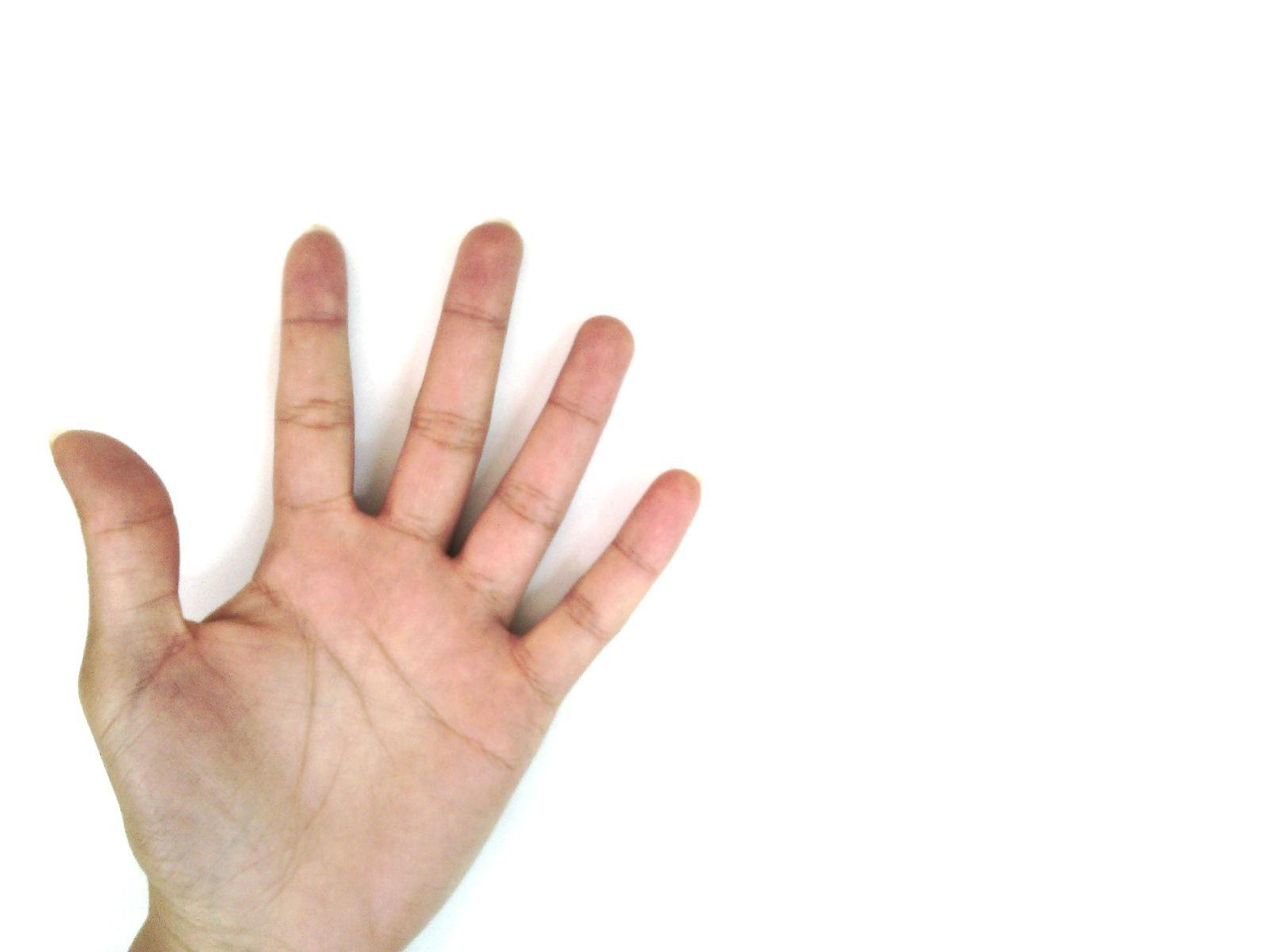open_palm: (49, 219, 704, 951)
